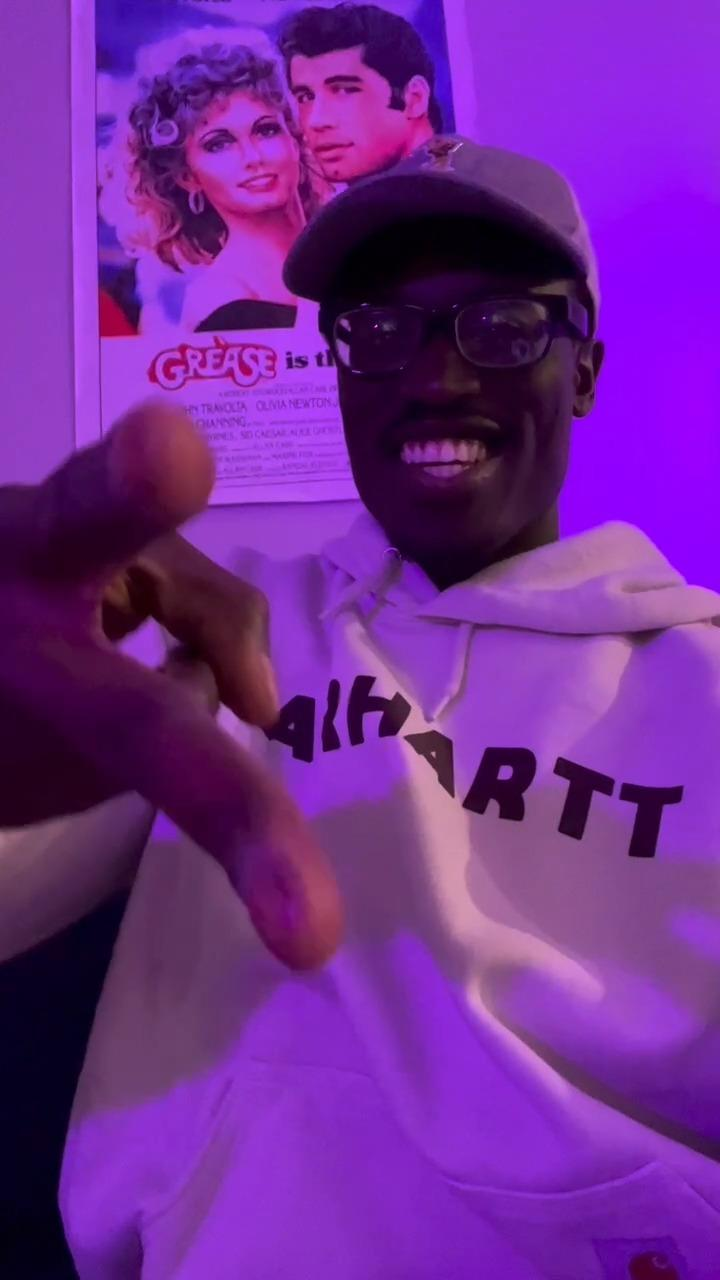Scissors: (0, 404, 349, 975)
